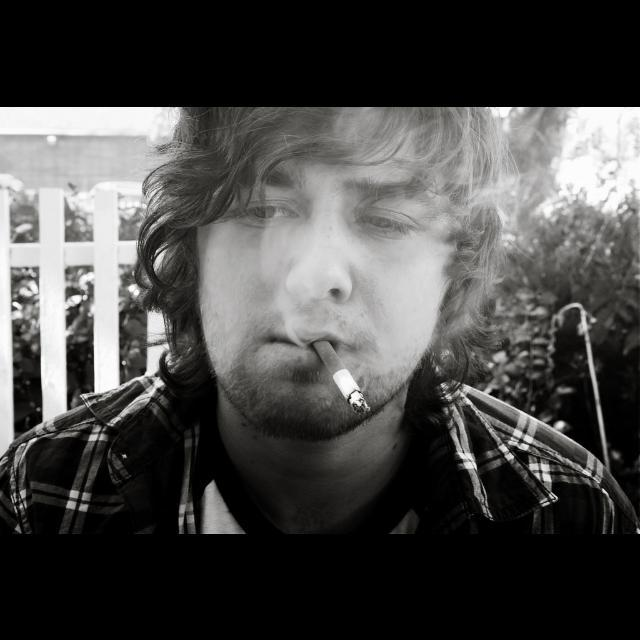rokok: (306, 336, 372, 416)
